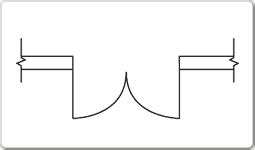door: (71, 52, 182, 127)
